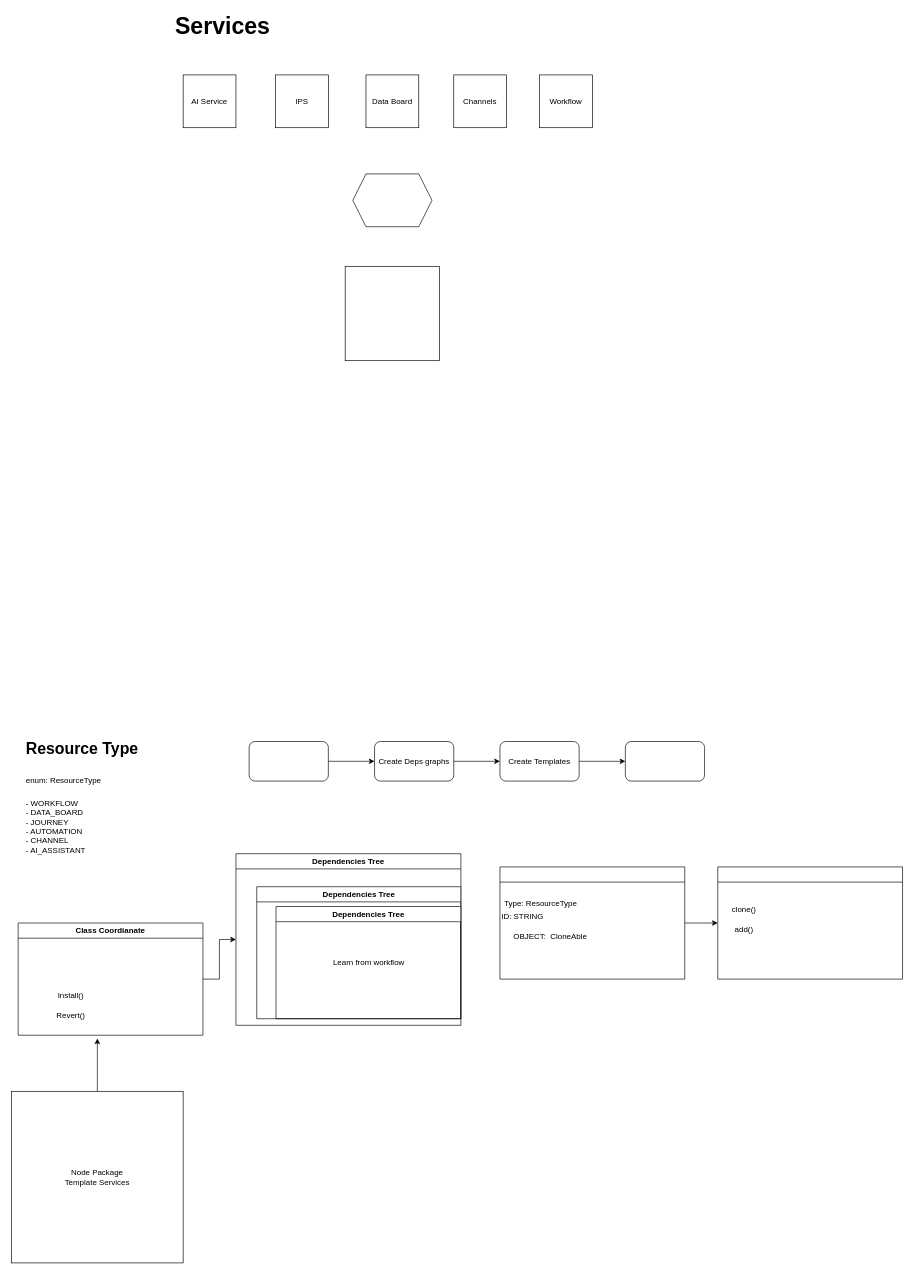
This 914x1274 diagram has some shape labels left out. Here are the shapes that lost their labels. From the top down, the box of each, then its label:
(352, 173, 432, 227): Rest APIs CRUD
(345, 266, 440, 361): Marketplace is template engine
(248, 741, 328, 781): Get Root Resources
(625, 741, 705, 781): Install Templates
(499, 866, 685, 979): Resource Interface
(717, 866, 903, 979): Interface CloneAble
